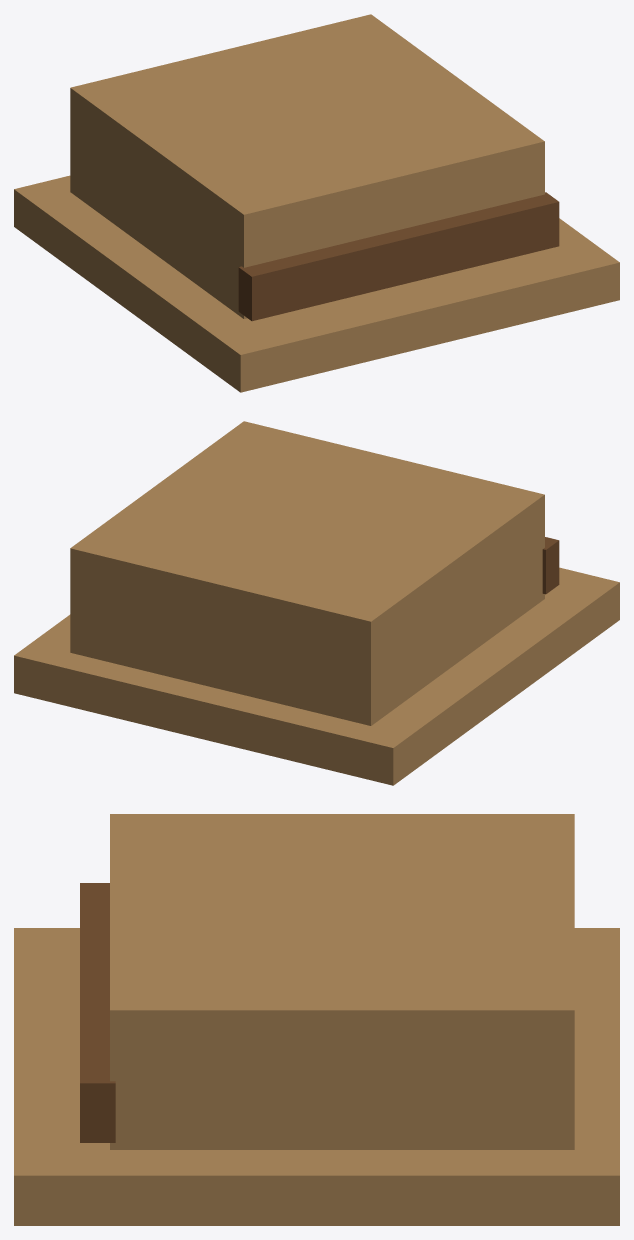
The model's file is leather_fedora.glb.
3 renders of one model, top to bottom at view 1: azimuth 30°, elevation 25°; view 2: azimuth 150°, elevation 25°; view 3: azimuth 270°, elevation 25°, orthographic. The views are drawn at different scales.
Parts seen in each view (by area): view 1: leather_fedora; view 2: leather_fedora; view 3: leather_fedora.
Part boxes in pixels (bbox=[...]): leather_fedora: bbox=[14, 14, 619, 392]; leather_fedora: bbox=[14, 421, 619, 785]; leather_fedora: bbox=[14, 814, 619, 1225].
Bounding box in the file's own units: 0.58 × 0.2075 × 0.6.
